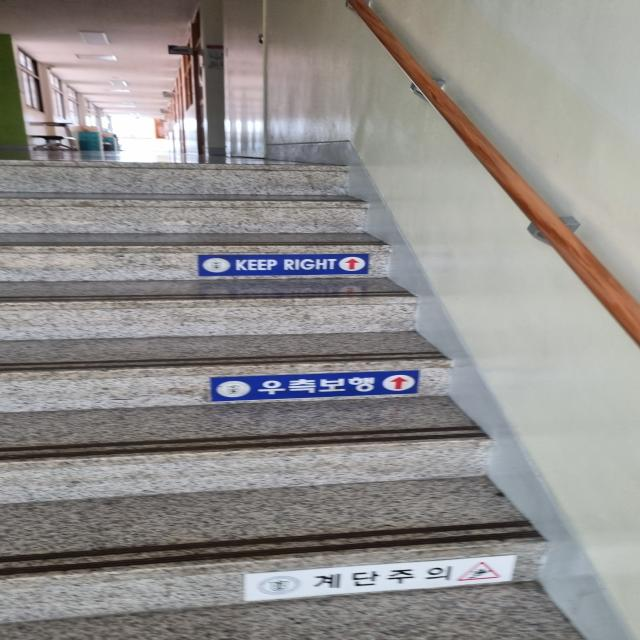logo: (257, 574, 305, 596), (215, 379, 252, 398), (200, 257, 232, 274)
